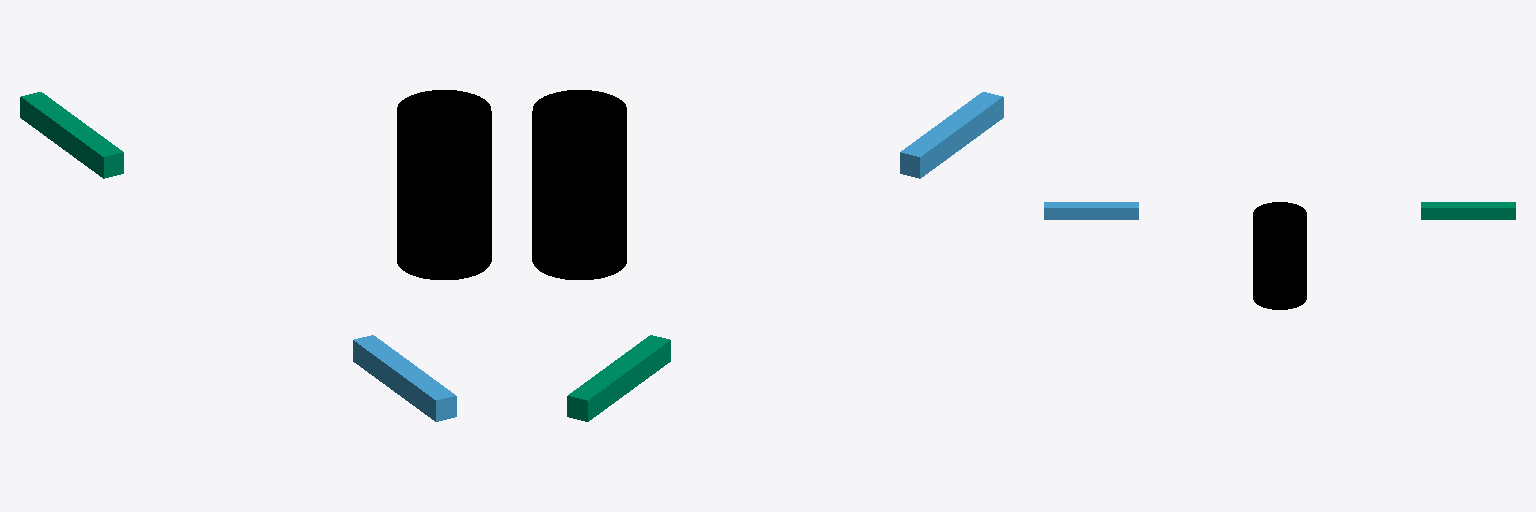
URDF robot description (Robot Pioneer Cam):
<robot name="Robot Pioneer Cam">

	<!-- CHASSIS LINK -->
	<link name="base_link">
		<inertial>
			<mass value="1"/>
		</inertial>
		<visual name="chassis">
			<origin xyz="0 0 0.04" rpy="0 0 0"/>
			<geometry>
				<mesh filename="demo/meshes/PioneerChassis.glb" />
			</geometry>
			<material name="">
				<color rgba="0.8 0.8 0.8 1"/>
			</material>
		</visual>
		
		<collision name="chassis">
			<origin xyz="0 0 0.04" rpy="0 0 0"/>
			<geometry>
				<cylinder radius="0.19" length="0.02"/>
			</geometry>
		</collision>

		<visual name="pole">
			<origin xyz="0.1 0 0.07" rpy="0 0 0"/>
			<geometry>
				<cylinder radius="0.02" length="0.07"/>
			</geometry>
			<material name="">
				<color rgba="0 0 0 1"/>
			</material>
		</visual>

	</link>
	
	<!-- RIGHT WHEEL LINK --> 
	<link name="right_wheel">
		<inertial>
			<mass value="1"/>
		</inertial>
		<visual name="wheel">
			<origin xyz="0 0 0" rpy="0 0 0"/>
			<geometry>
				<mesh filename="demo/meshes/PioneerWheel.glb" />
			</geometry>
			
		</visual>
		<visual name="shaft">
			<origin xyz="0 0.02 0" rpy="0 0 0"/>
			<geometry>
				<box size="0.01 0.07 0.01"/>
			</geometry>
			
		</visual>
		<collision>
			<origin xyz="0 0 0" rpy="1.57 0 0"/>
			<geometry>
				<cylinder radius="0.06" length="0.02"/>
			</geometry>
		</collision>
	</link>
	
	<joint name="right_joint" type="continuous">
		<origin xyz="0 -0.16 0.06" rpy="0 0 0"/>
		<parent link="base_link"/>
		<child link="right_wheel"/>
		<axis xyz="0.0 1.0 0.0"/>
		<limit effort="10" velocity="5.0"/>
	</joint>
	
	<!-- LEFT WHEEL LINK -->
	<link name="left_wheel">
		<inertial>
			<mass value="1"/>
		</inertial>
		<visual name="wheel">
			<origin xyz="0 0 0" rpy="0 0 3.1415"/>
			<geometry>
				<mesh filename="demo/meshes/PioneerWheel.glb" />
			</geometry>
			
		</visual>
		
		<visual name="shaft">
			<origin xyz="0 -0.02 0" rpy="0 0 0"/>
			<geometry>
				<box size="0.01 0.07 0.01"/>
			</geometry>
			
		</visual>

		<collision>
			<origin xyz="0 0 0" rpy="1.57 0 0"/>
			<geometry>
				<cylinder radius="0.06" length="0.02"/>
			</geometry>
		</collision>
	</link>
	
	<joint name="left_joint" type="continuous">
		<origin xyz="0 0.16 0.06" rpy="0 0 0"/>
		<parent link="base_link"/>
		<child link="left_wheel"/>
		<axis xyz="0.0 1.0 0.0"/>
		<limit effort="10" velocity="5.0"/>
	</joint>
	
	<!-- BACK CASTER WHEEL LINK -->
	<link name="back_caster_wheel">
		<inertial>
			<mass value="2"/>
			<friction value="0.0" />
		</inertial>
        <visual>
            <geometry>
                <mesh filename="demo/meshes/PioneerCaster.glb" />
            </geometry>
        <material>
			<color rgba="0 0 0 1"/>
		</material>
        </visual>
        <collision>
            <geometry>
                <sphere radius="0.02"/>
            </geometry>
        </collision>
    </link>
	
	<joint name="back_caster_joint" type="fixed">
		<origin xyz="-0.15 0.0 0.0205" rpy="0 0 0"/>
		<parent link="base_link"/>
		<child link="back_caster_wheel"/>
	</joint>
	
	<!-- FRONT CASTER WHEEL LINK -->
	<link name="front_caster_wheel">
		<inertial>
			<mass value="2"/>
			<friction value="0.0" />
		</inertial>
        <visual>
            <geometry>
                <mesh filename="demo/meshes/PioneerCaster.glb" />
            </geometry>
        <material>
			<color rgba="0 0 0 1"/>
		</material>
        </visual>
        <collision>
            <geometry>
                <sphere radius="0.02"/>
            </geometry>
        </collision>
    </link>
	
	<joint name="front_caster_joint" type="fixed">
		<origin xyz="0.15 0.0 0.0205" rpy="0 0 0"/>
		<parent link="base_link"/>
		<child link="front_caster_wheel"/>
	</joint>
	
	<gobotics name="control_robot" type="diff_drive">
        <right_wheel joint="right_joint"/>
        <left_wheel joint="left_joint"/>
		<max_speed value="8.0"/>
    </gobotics>
	
	<!-- HALF-LIDAR SENSOR -->
	<sensor name="front_cam" type="camera" update_rate="">
		<origin xyz="0.1 0 0.15" rpy="0 0 0"/>
		<parent link="base_link"/>
	</sensor>

</robot>

--- What the picture shows (computed from the rendered views, not written in the file) ---
The picture shows the robot from 3 angles, left to right: view 1: azimuth 30°, elevation 25°; view 2: azimuth 150°, elevation 25°; view 3: azimuth 270°, elevation 25°; orthographic projection.
Robot: Robot Pioneer Cam — 5 links, 4 joints (2 continuous, 2 fixed); root link base_link; default pose: all joints at 0.
Links seen in each view (by area): view 1: base_link, right_wheel, left_wheel; view 2: base_link, left_wheel, right_wheel; view 3: base_link, right_wheel, left_wheel.
Link boxes in pixels (<box>): base_link: <box>397,90,491,279</box>; right_wheel: <box>353,335,456,421</box>; left_wheel: <box>20,92,123,178</box>; base_link: <box>532,90,626,279</box>; left_wheel: <box>567,335,670,421</box>; right_wheel: <box>900,92,1003,178</box>; base_link: <box>1253,202,1306,309</box>; right_wheel: <box>1044,202,1138,219</box>; left_wheel: <box>1421,202,1515,219</box>.
Bounding box of the posed robot: 0.125 × 0.35 × 0.07 m (x, y, z).
Meshes: 3 distinct files referenced, 0 mesh visuals loaded (none loaded); not drawn: 5 (file found but could not be loaded).